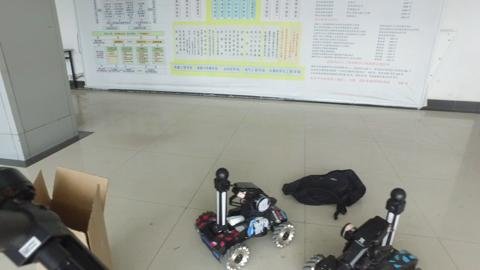bag: (282, 162, 370, 216)
chariot: (192, 168, 295, 266), (311, 191, 423, 268)
